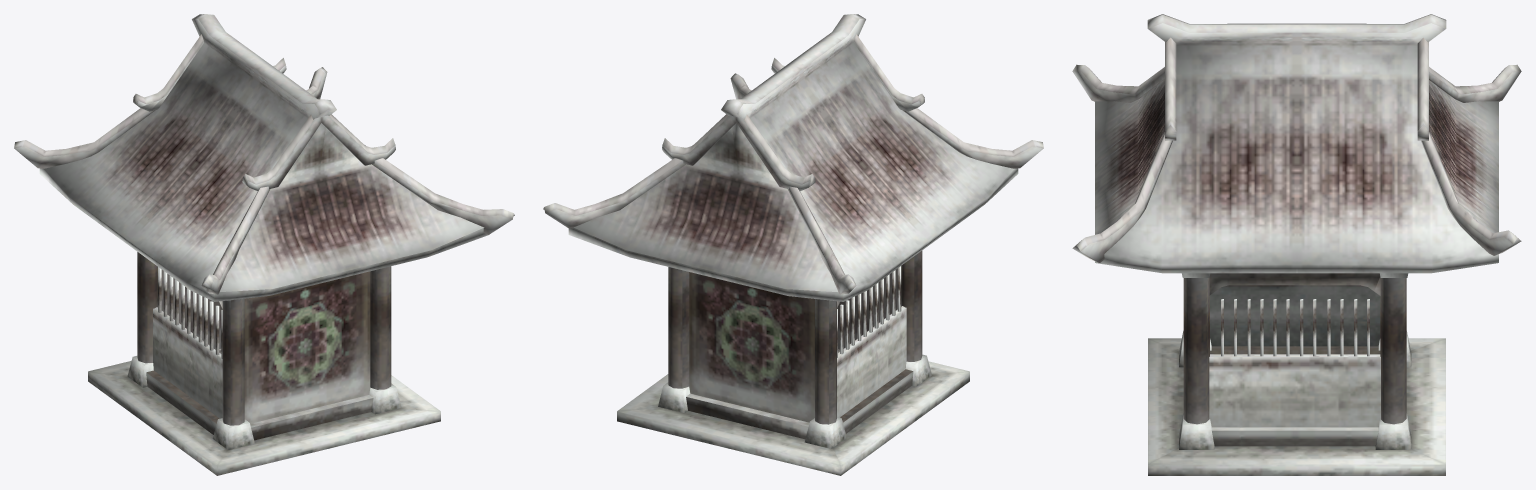
Rendered from snow-004-hause2.fbx.
3 renders of one model, left to right at view 1: azimuth 30°, elevation 25°; view 2: azimuth 150°, elevation 25°; view 3: azimuth 270°, elevation 25°, orthographic. The views are drawn at different scales.
Visible parts, largest first — view 1: snow-004-hause2; view 2: snow-004-hause2; view 3: snow-004-hause2.
Part boxes in pixels (x1,y1,x2,y2): snow-004-hause2: (14,14,514,475); snow-004-hause2: (543,14,1043,475); snow-004-hause2: (1072,14,1521,475).
Size of the model in its own units: 5.23 by 5.5 by 5.63.
